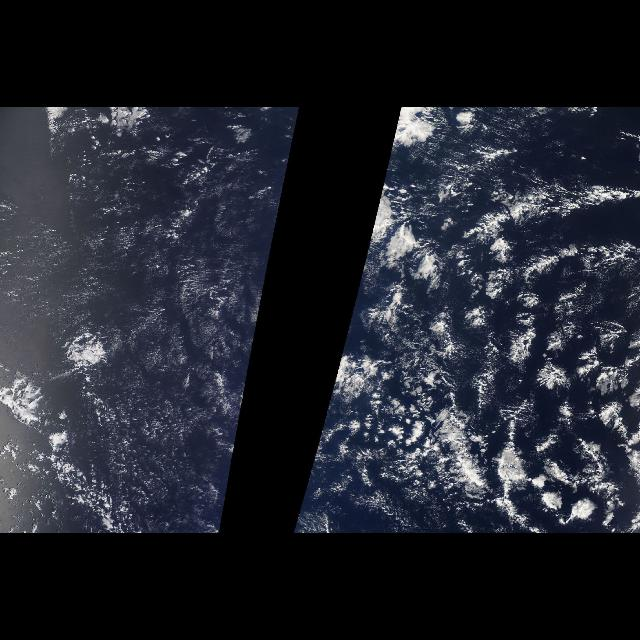Flower: (370, 222, 640, 530)
Sugar: (17, 142, 261, 528)
